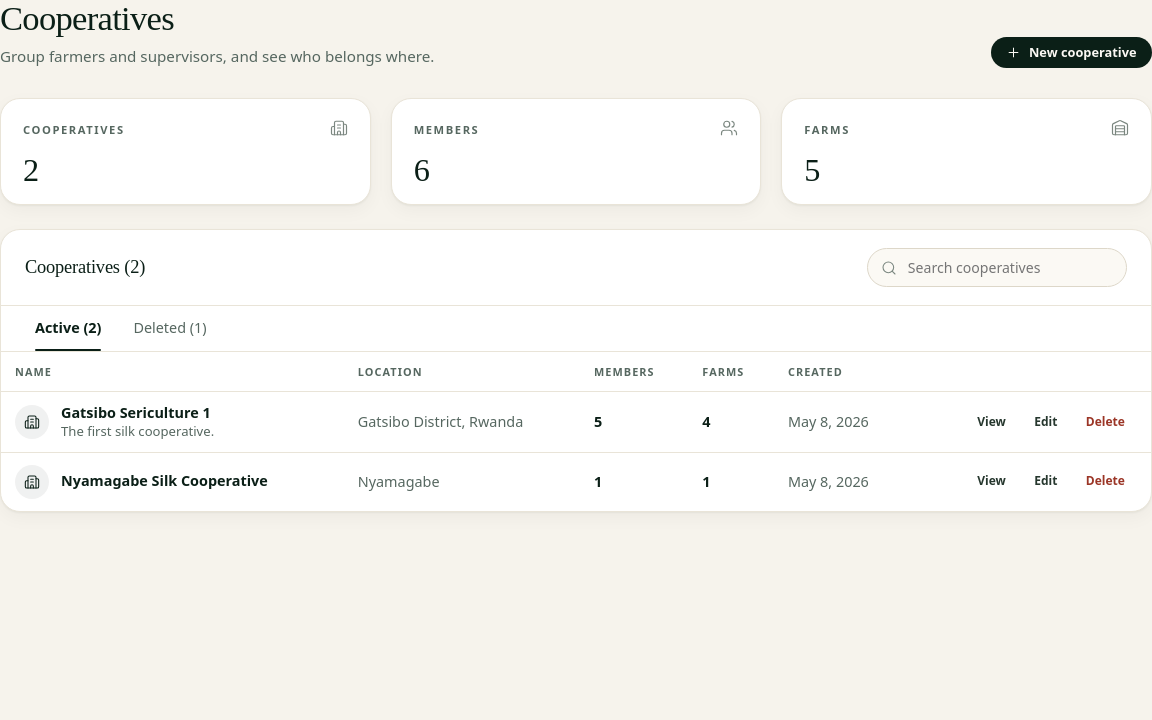
Scenario: Cooperatives page › asks before restoring, then moves the cooperative back to the Active tab
The width and height of the screenshot is (1152, 720).
Check: the text "Gatsibo Sericulture 1" is shown, box [61,404,214,423]
Click the tab "Deleted (1)". click: x=170, y=328
box: [119,306,221,351]
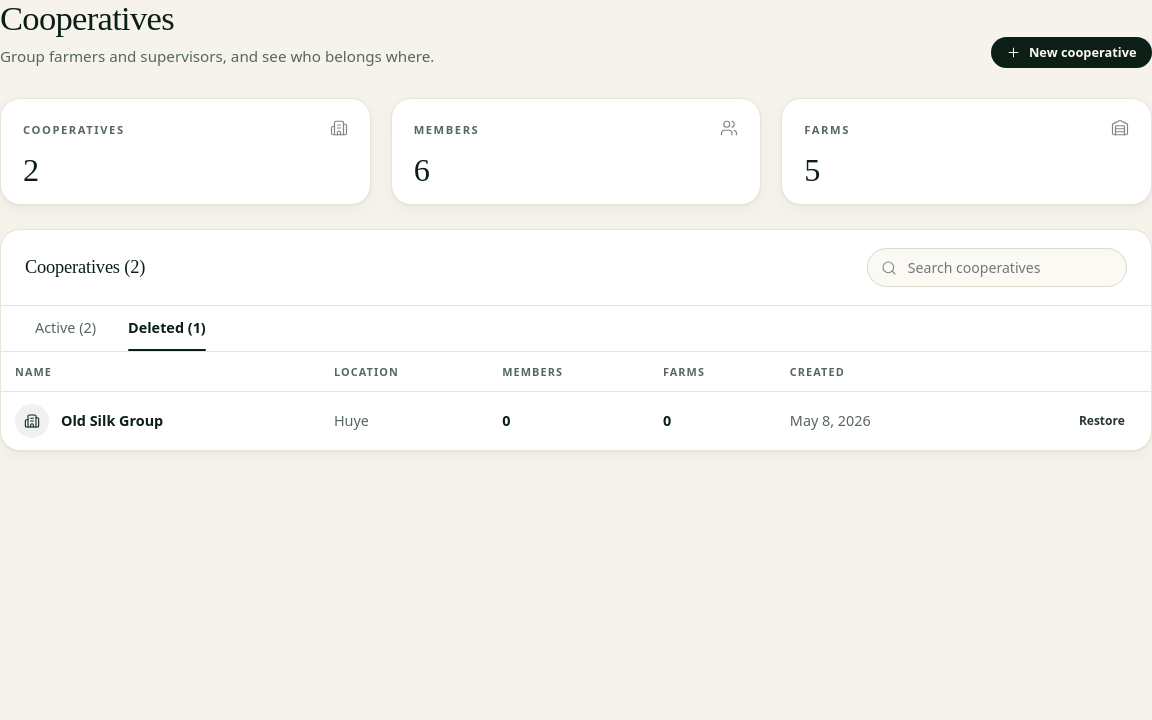
Click the button with aria-label "Restore Old Silk Group". click: x=1102, y=421
box: [1067,408,1137,434]
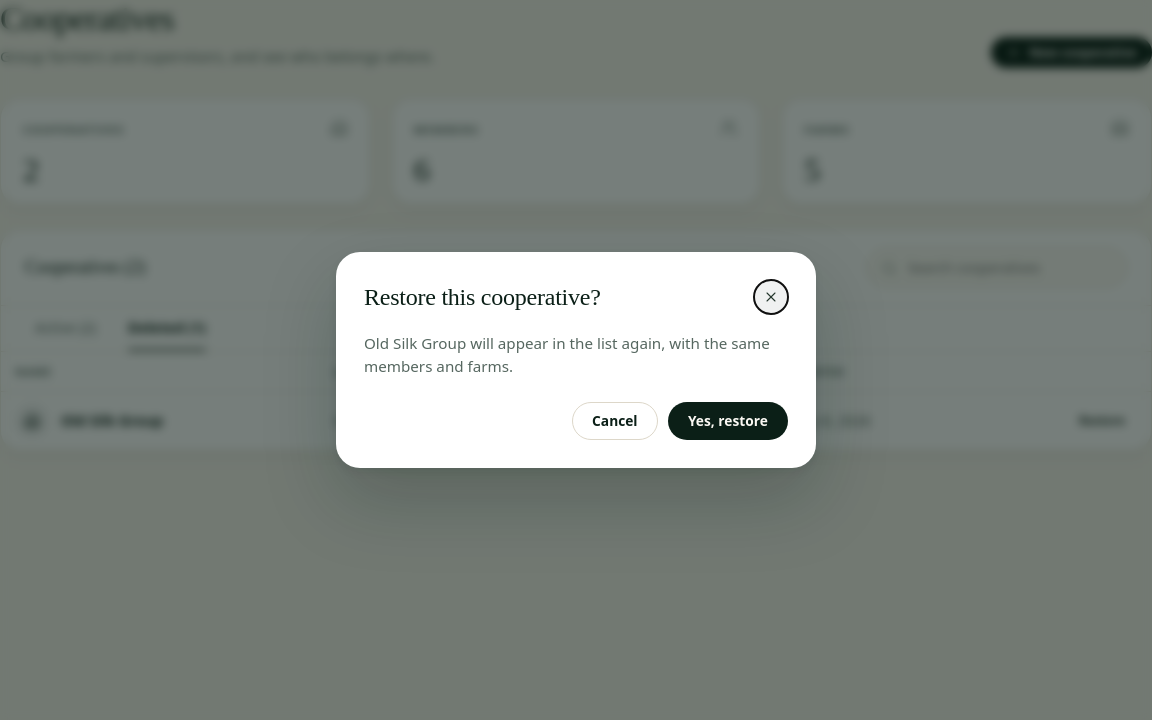
Click the button "Yes, restore". click: x=728, y=421
box: [668,402,788,440]
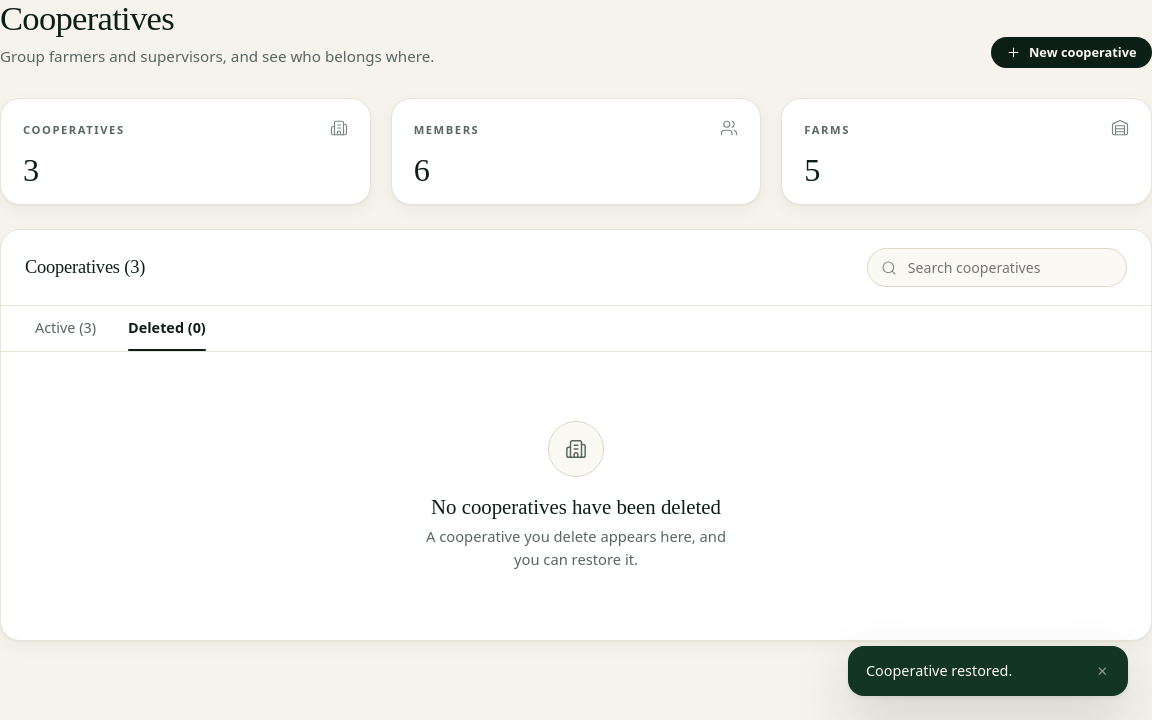
Check: the text "Old Silk Group" is gone
Click the tab "Active (3)". click: x=66, y=328
box: [21,306,110,351]
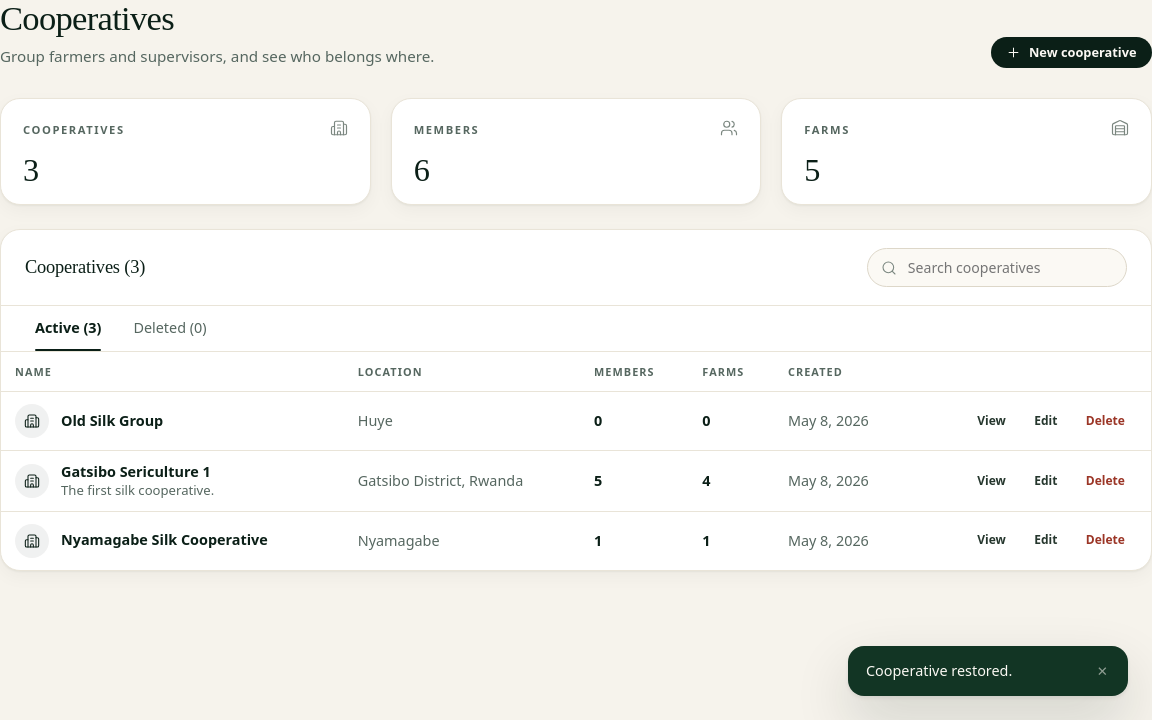
Check: the text "Old Silk Group" is shown, box [61,412,163,430]
